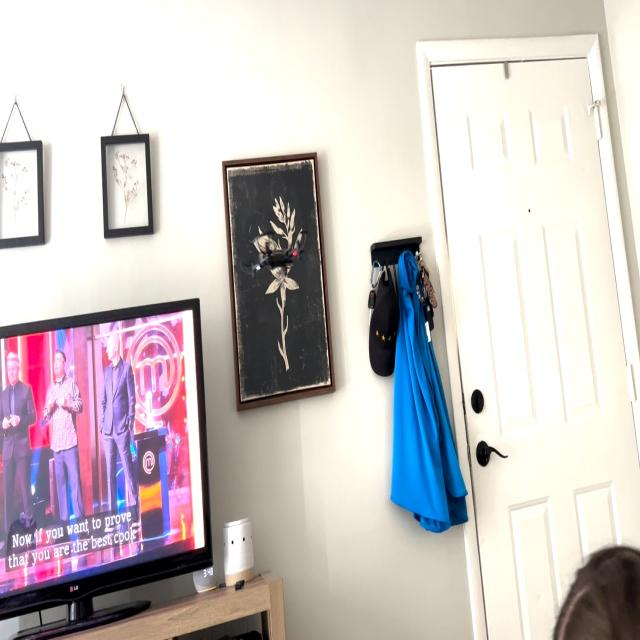drone: (229, 214, 331, 298)
